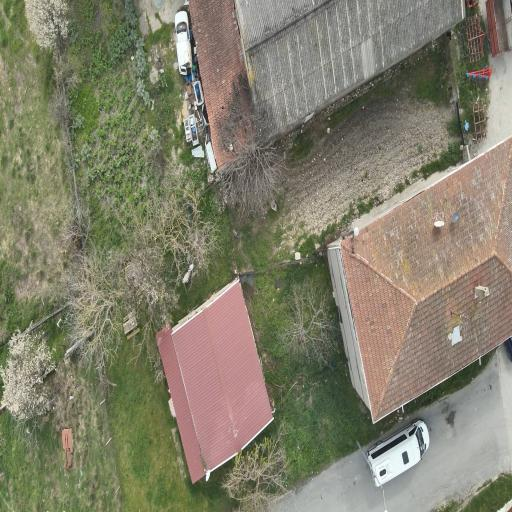car: (367, 419, 428, 485), (174, 10, 191, 73)
